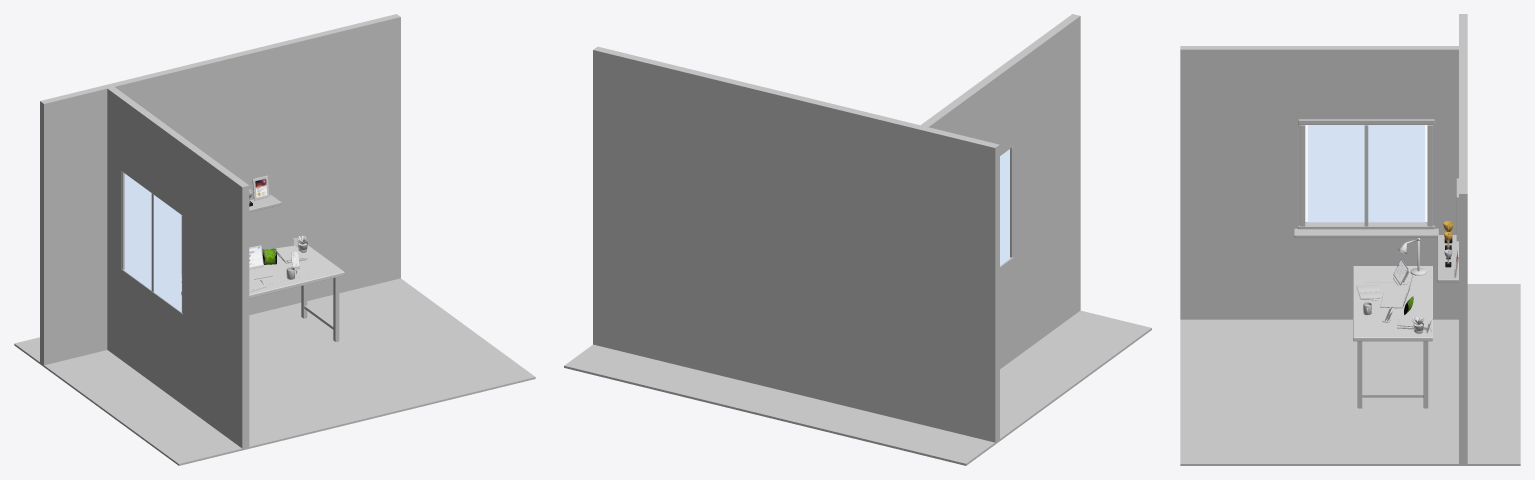
Rendered from desk.glb.
3 views of the same model, side by side, from view 1: azimuth 30°, elevation 25°; view 2: azimuth 150°, elevation 25°; view 3: azimuth 270°, elevation 25° (orthographic). The views are drawn at different scales.
Visible parts, largest first — view 1: baked_room, window_glass, baked_desk; view 2: baked_room, window_glass; view 3: baked_room, window_glass, baked_desk.
Part boxes in pixels (box(x1,y1,x2,y2)): baked_room: box(14, 14, 535, 465); window_glass: box(124, 173, 181, 311); baked_desk: box(181, 175, 344, 298); baked_room: box(564, 14, 1151, 465); window_glass: box(1000, 149, 1009, 265); baked_room: box(1180, 14, 1520, 465); window_glass: box(1308, 125, 1424, 222); baked_desk: box(1353, 238, 1458, 341).
Bounding box in the file's own units: 4 × 2.82 × 3.2.
13 materials, 5 textured.
